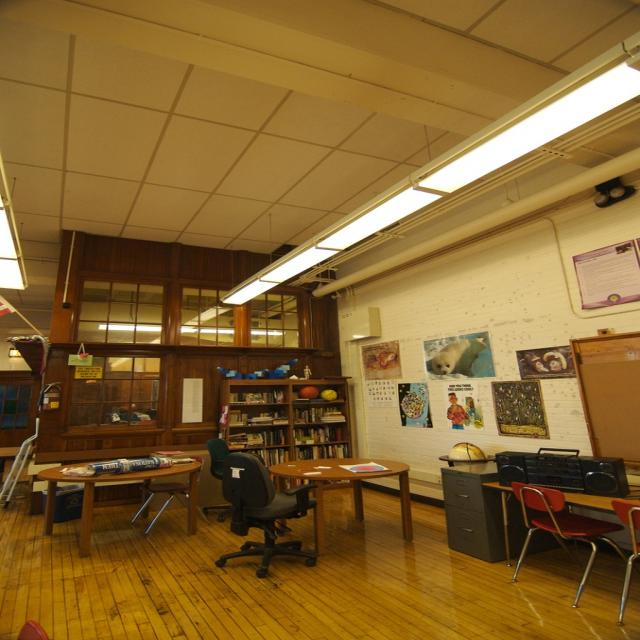chair: (506, 481, 630, 615), (214, 452, 318, 579), (130, 464, 203, 538), (610, 501, 640, 630)
desk: (19, 438, 223, 550)
